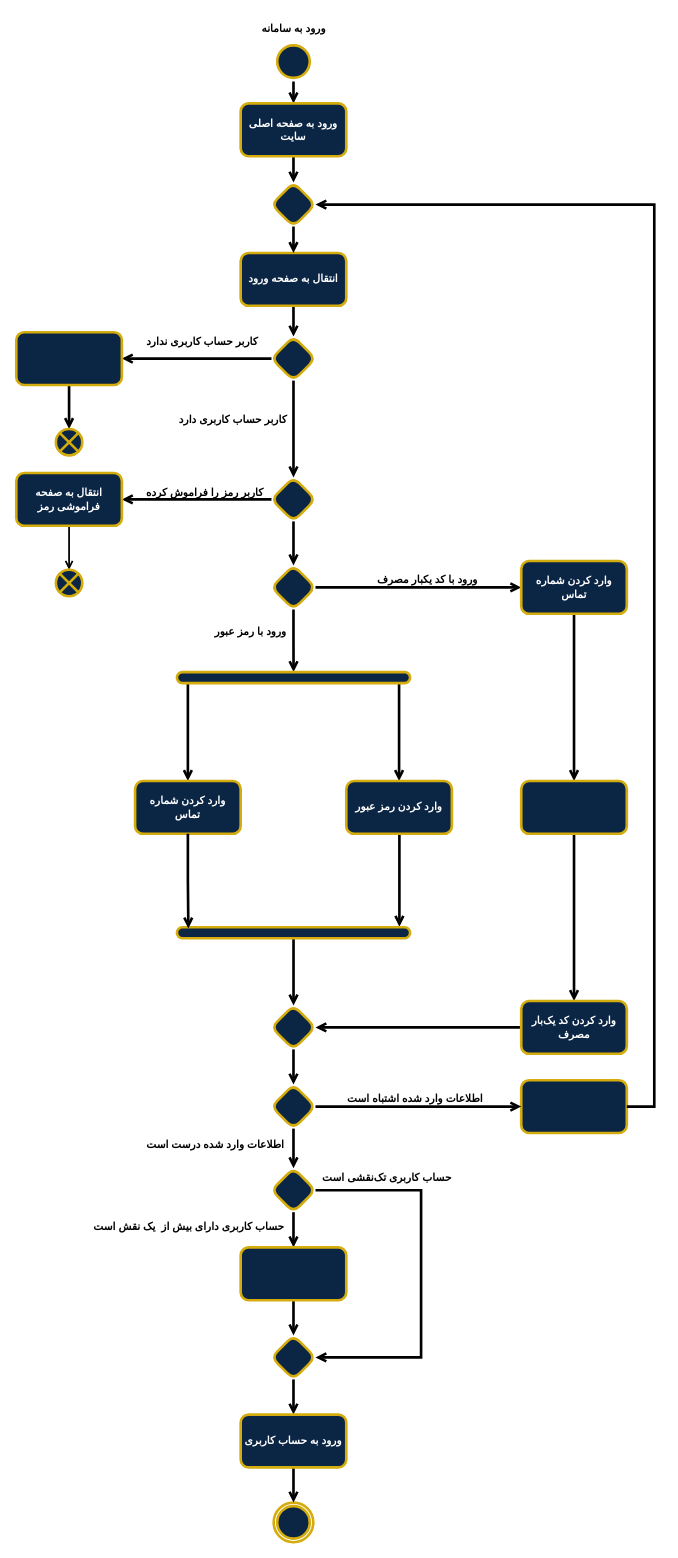
The diagram is 678 pixels wide and 1558 high, and some of its shapes have lost their labels. Each missing label, with the centre of its shape:
"انتخاب نقش موردنظر در صفحه نقش‌ها" goes at (293,1273).
"دریافت رمز یک‌بار مصرف" goes at (573,807).
"رفتن به صفحه ثبت نام" goes at (69,358).
"نمایش پیام خطا" goes at (573,1106).
